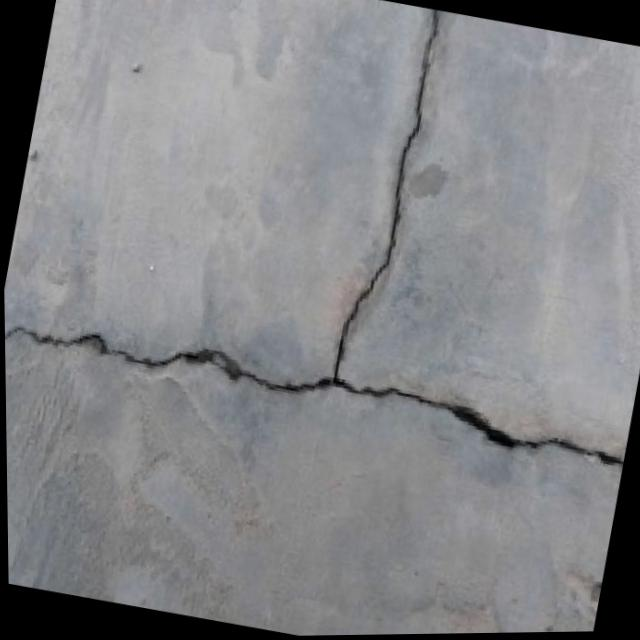Crack: (3, 265, 637, 518), (291, 0, 466, 413)
